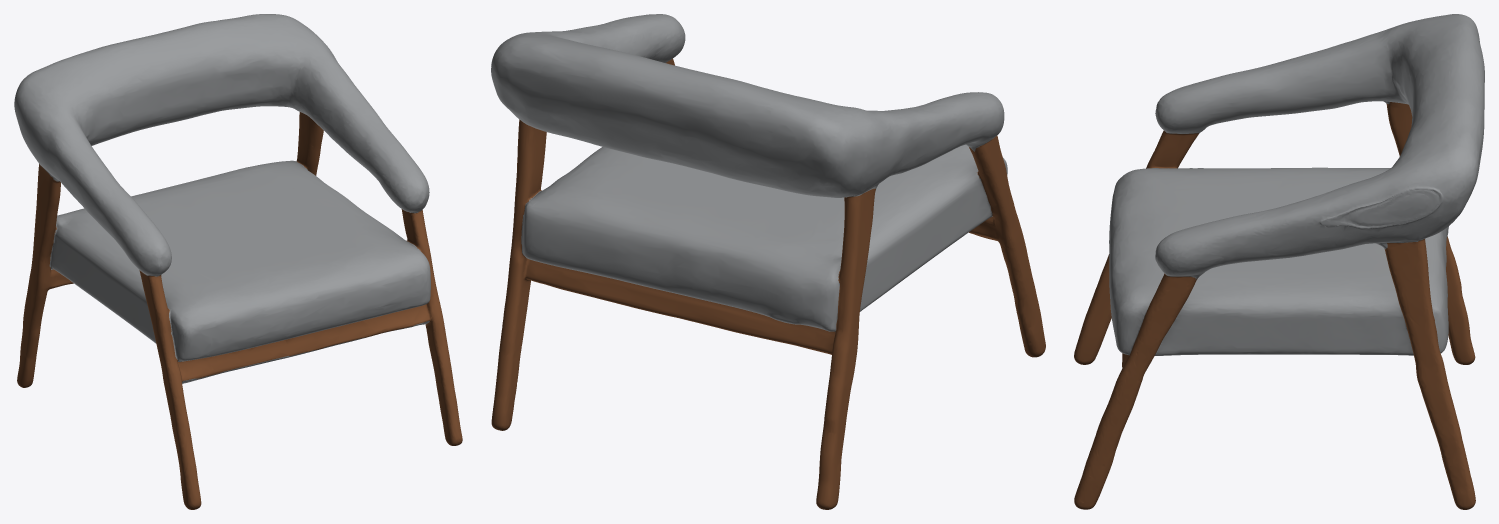
Rendered from melissa-076.glb.
The picture shows the model from 3 angles, left to right: view 1: azimuth 30°, elevation 25°; view 2: azimuth 150°, elevation 25°; view 3: azimuth 270°, elevation 25°; orthographic projection. The views are drawn at different scales.
Parts seen in each view (by area): view 1: Sofa; view 2: Sofa; view 3: Sofa.
Part boxes in pixels (left/top/right/bottom): Sofa: left=14, top=14, right=462, bottom=509; Sofa: left=491, top=14, right=1045, bottom=509; Sofa: left=1074, top=14, right=1484, bottom=509.
Bounding box in the file's own units: 0.76 × 0.78 × 0.8.
